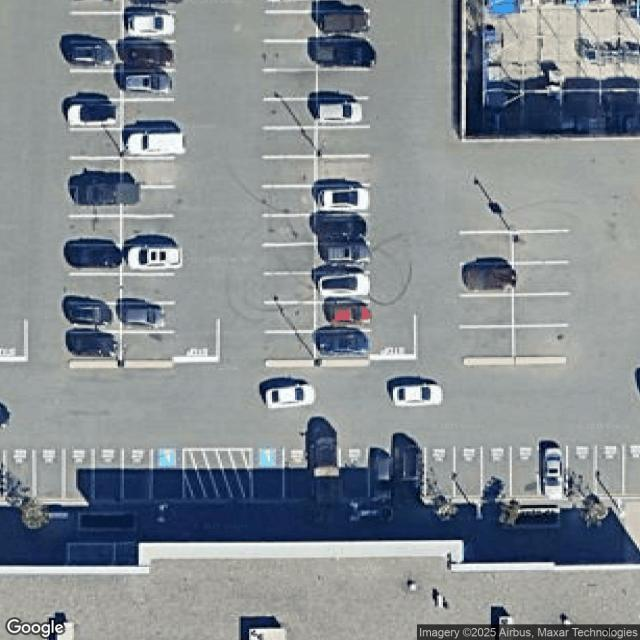car: (310, 432, 342, 508), (66, 178, 140, 208), (124, 129, 188, 158), (460, 260, 514, 292), (126, 243, 184, 272), (64, 241, 124, 269), (312, 39, 372, 67), (396, 444, 424, 503), (317, 270, 370, 299), (63, 329, 117, 356), (314, 329, 368, 356), (64, 41, 117, 68), (122, 41, 175, 68), (120, 70, 173, 97), (316, 7, 369, 34), (317, 187, 370, 214), (65, 100, 117, 127), (123, 11, 176, 37), (126, 246, 179, 272), (317, 217, 370, 243), (370, 452, 395, 507), (66, 300, 114, 328), (541, 445, 565, 501), (316, 100, 366, 125), (325, 302, 374, 327), (121, 304, 168, 330), (324, 241, 372, 266)
objects: (184, 449, 253, 502), (68, 360, 172, 367), (265, 359, 369, 366), (464, 359, 566, 364)
stall: (513, 233, 569, 263), (457, 233, 513, 263), (513, 265, 569, 295), (514, 326, 570, 356), (457, 327, 513, 357), (457, 296, 513, 326), (457, 264, 513, 294), (514, 295, 569, 325), (318, 10, 370, 40), (263, 272, 315, 302), (264, 244, 316, 274), (317, 330, 369, 360), (122, 128, 174, 158), (318, 68, 369, 98), (263, 330, 314, 360), (122, 42, 173, 72), (70, 100, 121, 130), (122, 158, 173, 188), (69, 302, 120, 332), (34, 450, 64, 501), (370, 448, 400, 499), (512, 448, 542, 499), (594, 447, 624, 498), (264, 71, 316, 100), (265, 99, 317, 128), (263, 187, 315, 216), (316, 128, 368, 157), (263, 217, 315, 246), (316, 302, 368, 331), (70, 13, 122, 42), (123, 100, 175, 129), (70, 159, 122, 188), (122, 245, 174, 274), (71, 187, 123, 216), (123, 217, 175, 246), (69, 274, 121, 303), (121, 332, 173, 361), (68, 333, 120, 362), (122, 302, 174, 331), (482, 448, 512, 498), (317, 99, 368, 128), (318, 41, 369, 70), (265, 41, 316, 70), (317, 185, 368, 214), (317, 157, 368, 186), (264, 157, 315, 186), (317, 215, 368, 244), (263, 303, 314, 332), (317, 273, 368, 302), (124, 13, 175, 42), (70, 129, 121, 158), (71, 73, 122, 102), (123, 187, 174, 216), (69, 245, 120, 274), (153, 449, 182, 500), (6, 450, 35, 501), (65, 448, 94, 499), (123, 448, 152, 499), (254, 449, 283, 500), (284, 449, 313, 500), (425, 448, 454, 499), (454, 447, 483, 498), (265, 12, 317, 40), (71, 44, 123, 72), (123, 274, 175, 302), (314, 450, 343, 500), (342, 450, 371, 500), (539, 448, 568, 498), (263, 128, 314, 156), (317, 244, 368, 272), (70, 218, 121, 246), (94, 448, 122, 499), (568, 448, 596, 498), (401, 448, 426, 500), (624, 447, 640, 497), (70, 0, 122, 13)
